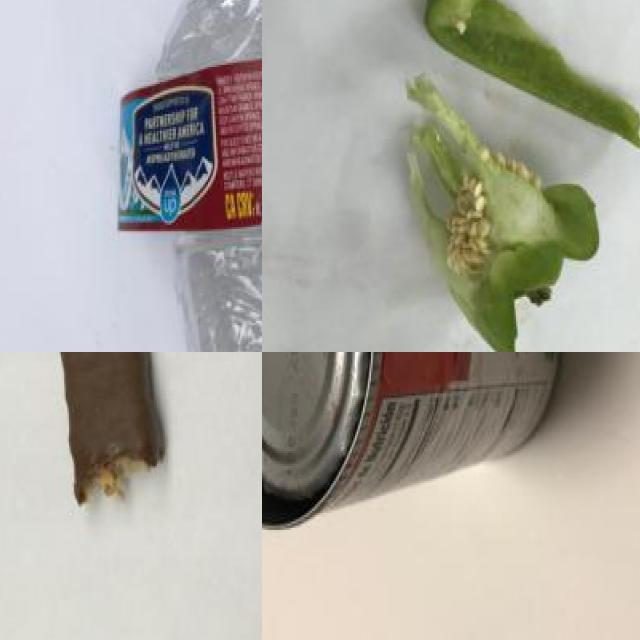compost: (377, 0, 640, 352), (16, 352, 211, 521)
plastic: (262, 352, 562, 534), (139, 0, 262, 352)
